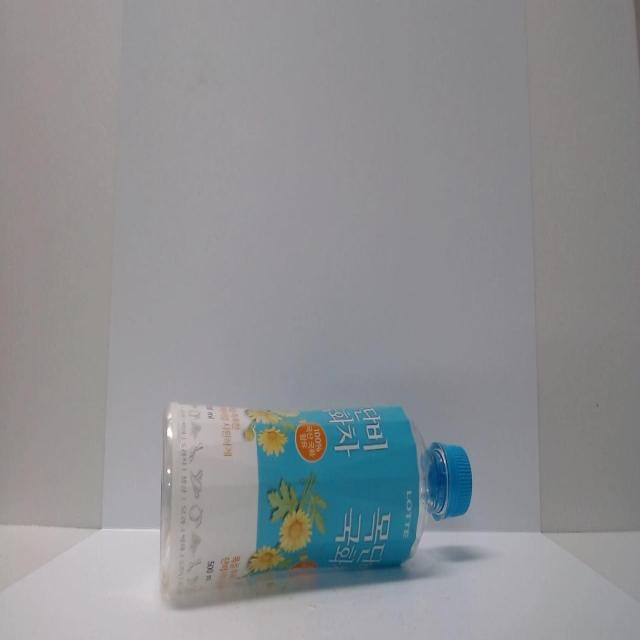bottle: (155, 387, 476, 609)
